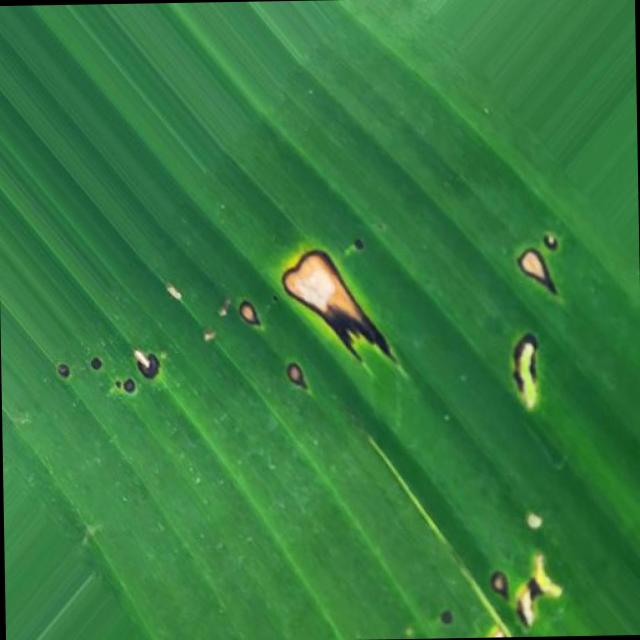Banana_Black_Sigatoka: (261, 221, 394, 424), (477, 244, 605, 412), (56, 326, 176, 420), (496, 532, 558, 637)
